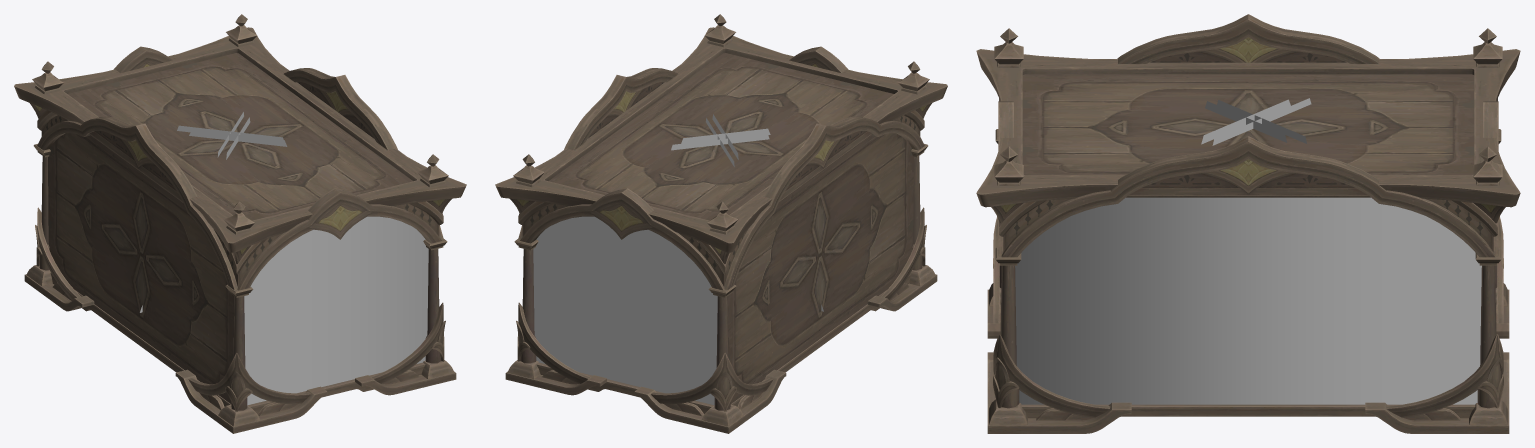
The model's file is Homeworld_Interior_Common_Thing_Prop_Fishbowl_01_Lod0.fbx.
3 views of the same model, side by side, from view 1: azimuth 30°, elevation 25°; view 2: azimuth 150°, elevation 25°; view 3: azimuth 270°, elevation 25° (orthographic). The views are drawn at different scales.
Parts seen in each view (by area): view 1: Homeworld_Interior_Common_Thing_Prop_Fishbowl_01_Lod0, Homeworld_Interior_Common_Thing_Prop_Fishbowl_03_Vo, GodRay_Common (×2); view 2: Homeworld_Interior_Common_Thing_Prop_Fishbowl_01_Lod0, Homeworld_Interior_Common_Thing_Prop_Fishbowl_03_Vo, GodRay_Common (×2); view 3: Homeworld_Interior_Common_Thing_Prop_Fishbowl_01_Lod0, Homeworld_Interior_Common_Thing_Prop_Fishbowl_03_Vo, GodRay_Common (×2).
Part boxes in pixels (box(x1,y1,x2,y2)): Homeworld_Interior_Common_Thing_Prop_Fishbowl_01_Lod0: box(14, 14, 466, 433); Homeworld_Interior_Common_Thing_Prop_Fishbowl_03_Vo: box(244, 216, 428, 405); GodRay_Common (×2): box(177, 112, 287, 159); Homeworld_Interior_Common_Thing_Prop_Fishbowl_01_Lod0: box(495, 14, 947, 433); Homeworld_Interior_Common_Thing_Prop_Fishbowl_03_Vo: box(533, 216, 717, 405); GodRay_Common (×2): box(671, 114, 770, 166); Homeworld_Interior_Common_Thing_Prop_Fishbowl_01_Lod0: box(976, 14, 1520, 433); Homeworld_Interior_Common_Thing_Prop_Fishbowl_03_Vo: box(1015, 197, 1481, 404); GodRay_Common (×2): box(1201, 98, 1311, 145).
Bounding box in the file's own units: 4.37 × 4.03 × 6.9.
